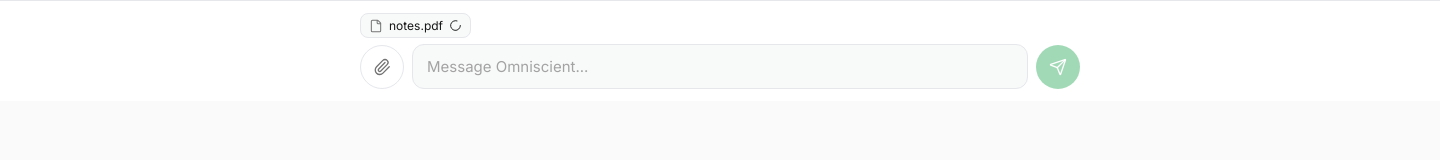
Test: ChatComposer › disables the send button while an attachment is still uploading
This screenshot has width=1440, height=160.
Earlier steps of the test are not shown.
Later steps or results of the test are not shown.
Type "See attached" into the text box labelled "Message Omniscient" at (720, 66), box [412,44,1028,89]
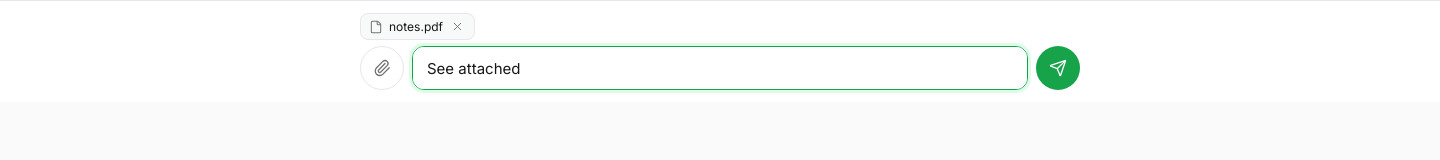
Result: the button named "Send message" is enabled at [1036,46,1080,90]
